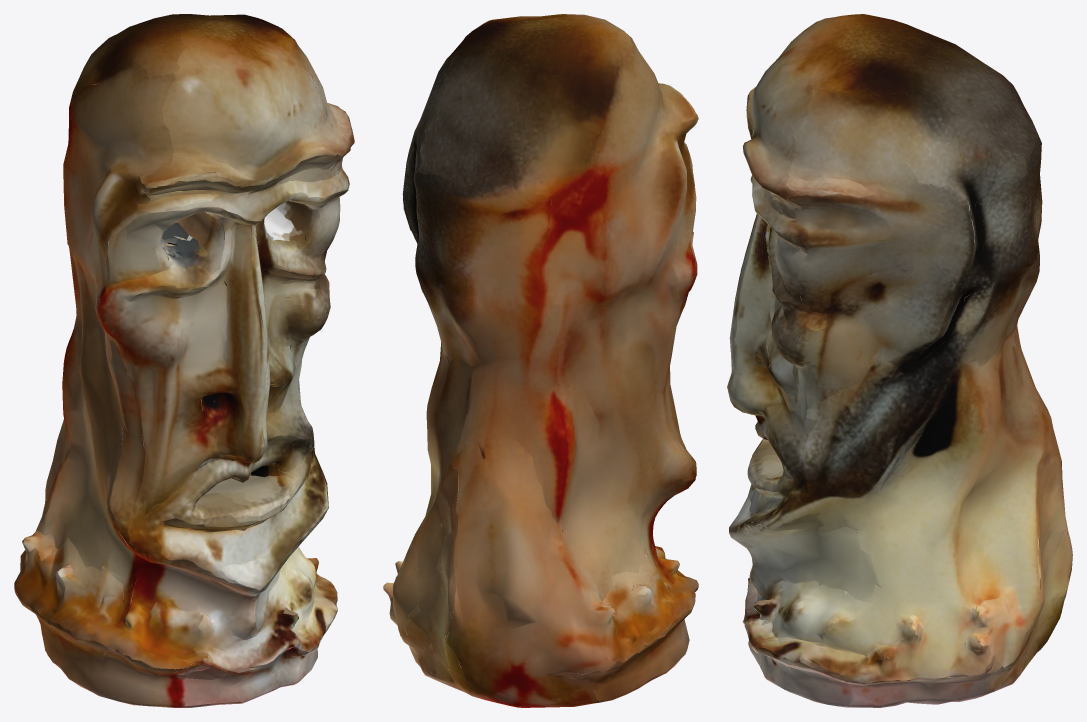
3 renders of one model, left to right at view 1: azimuth 30°, elevation 25°; view 2: azimuth 150°, elevation 25°; view 3: azimuth 270°, elevation 25°, orthographic. The views are drawn at different scales.
Visible parts, largest first — view 1: geometry_0.001; view 2: geometry_0.001; view 3: geometry_0.001.
Part boxes in pixels (bbox=[...]): geometry_0.001: bbox=[14, 14, 354, 707]; geometry_0.001: bbox=[383, 14, 698, 707]; geometry_0.001: bbox=[727, 14, 1072, 707].
Size of the model in its own units: 0.8602 by 2 by 0.9894.
Materials: 1 (1 with a texture image).
